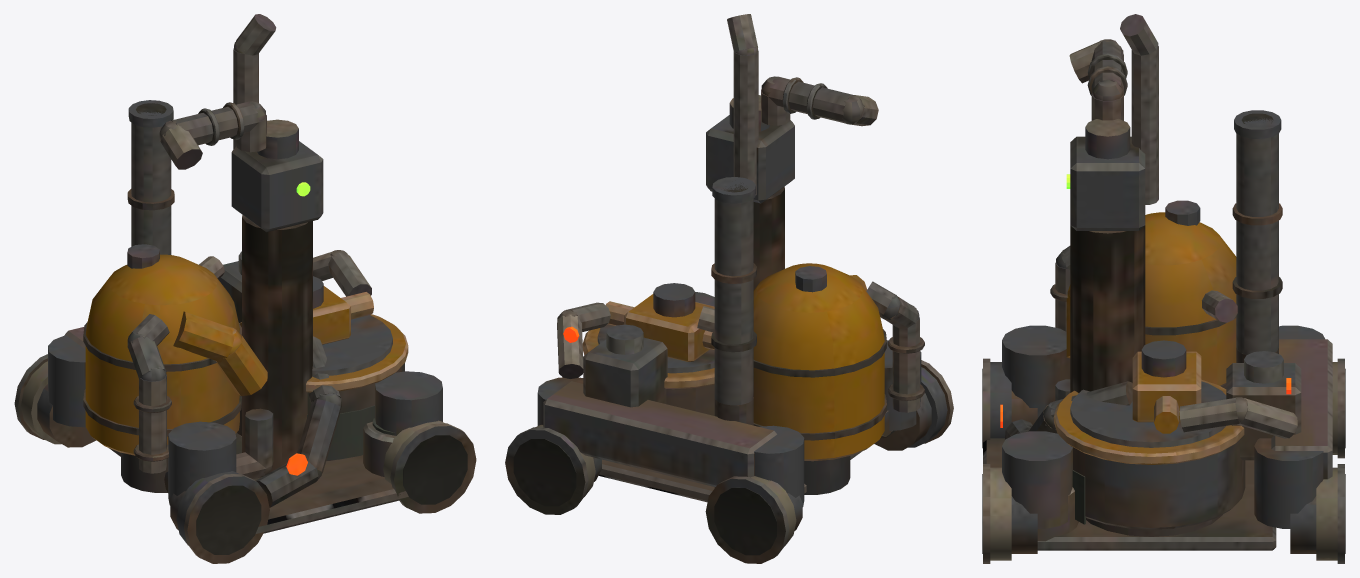
Rendered from chemical-plant.glb.
3 renders of one model, left to right at view 1: azimuth 30°, elevation 25°; view 2: azimuth 150°, elevation 25°; view 3: azimuth 270°, elevation 25°, orthographic. The views are drawn at different scales.
Visible parts, largest first — view 1: body; view 2: body; view 3: body.
Boxes of the visible parts, x1,y1,x2,y2 form: body: [14, 14, 476, 563]; body: [505, 14, 953, 563]; body: [982, 14, 1345, 563].
Size of the model in its own units: 2.89 by 4.33 by 2.91.
Materials: 3 (3 with a texture image).
